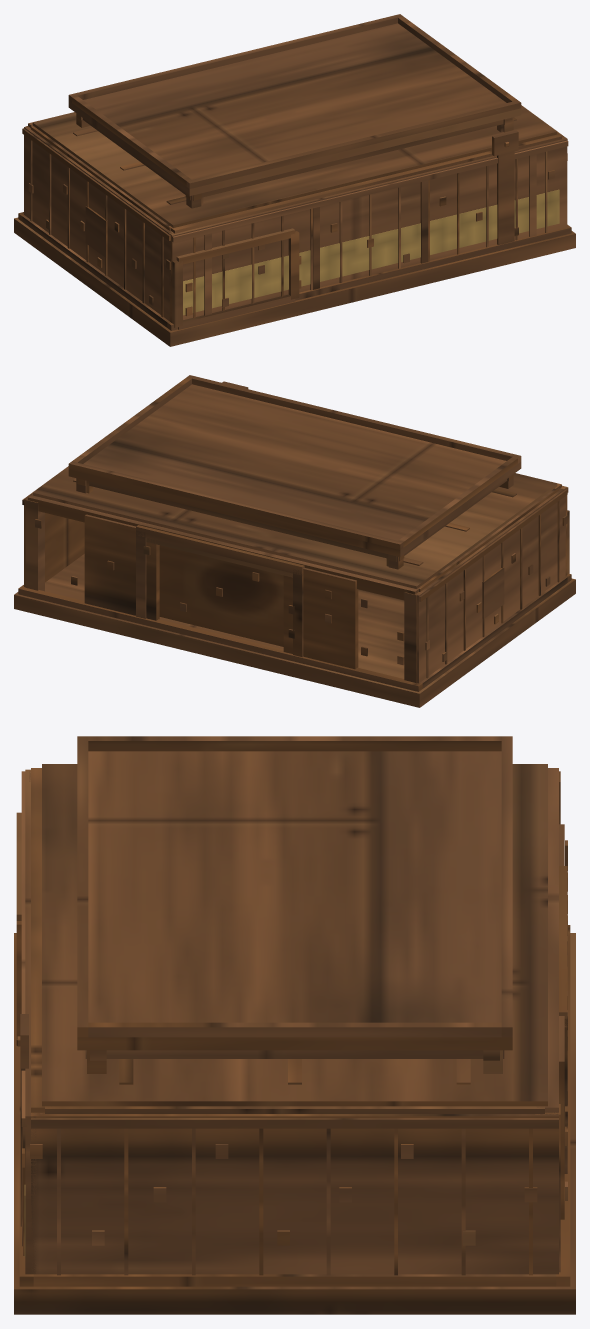
3 renders of one model, top to bottom at view 1: azimuth 30°, elevation 25°; view 2: azimuth 150°, elevation 25°; view 3: azimuth 270°, elevation 25°, orthographic. The views are drawn at different scales.
Parts seen in each view (by area): view 1: SM_HDBF_BoxFarm_Intermediate_LOD1; view 2: SM_HDBF_BoxFarm_Intermediate_LOD1; view 3: SM_HDBF_BoxFarm_Intermediate_LOD1.
Part boxes in pixels (x1=…): SM_HDBF_BoxFarm_Intermediate_LOD1: x1=14, y1=14, x2=575, y2=346; SM_HDBF_BoxFarm_Intermediate_LOD1: x1=14, y1=375, x2=575, y2=707; SM_HDBF_BoxFarm_Intermediate_LOD1: x1=14, y1=736, x2=575, y2=1314.
Bounding box in the file's own units: 3 × 1 × 2.
3 materials, 3 textured.
